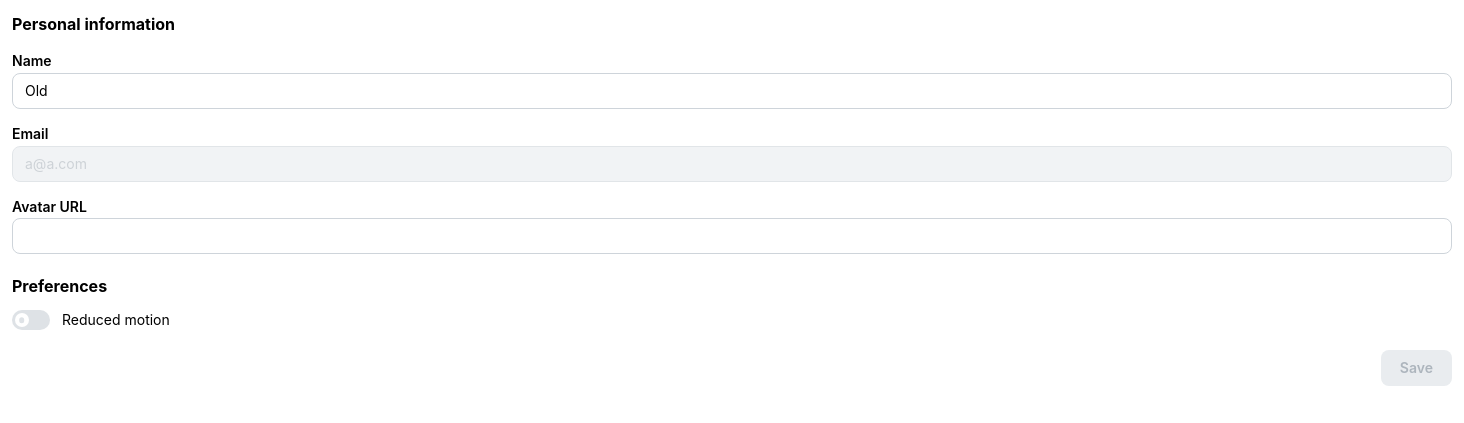
Test: ProfileRealSection (T1) › surfaces 422 validation errors
This screenshot has width=1464, height=423.
Replace the text in the field with test id "profile-real-name-input" with "X" at coordinates (732, 91), box [12,73,1452,109]
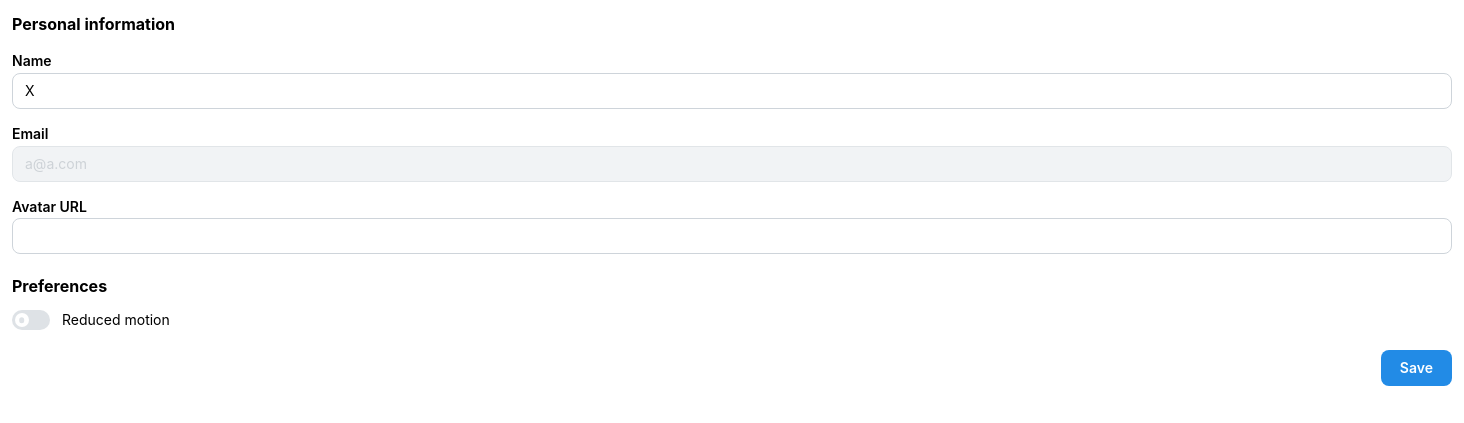
Click the button with test id "profile-real-save" at coordinates (1416, 368), box [1381,350,1452,386]
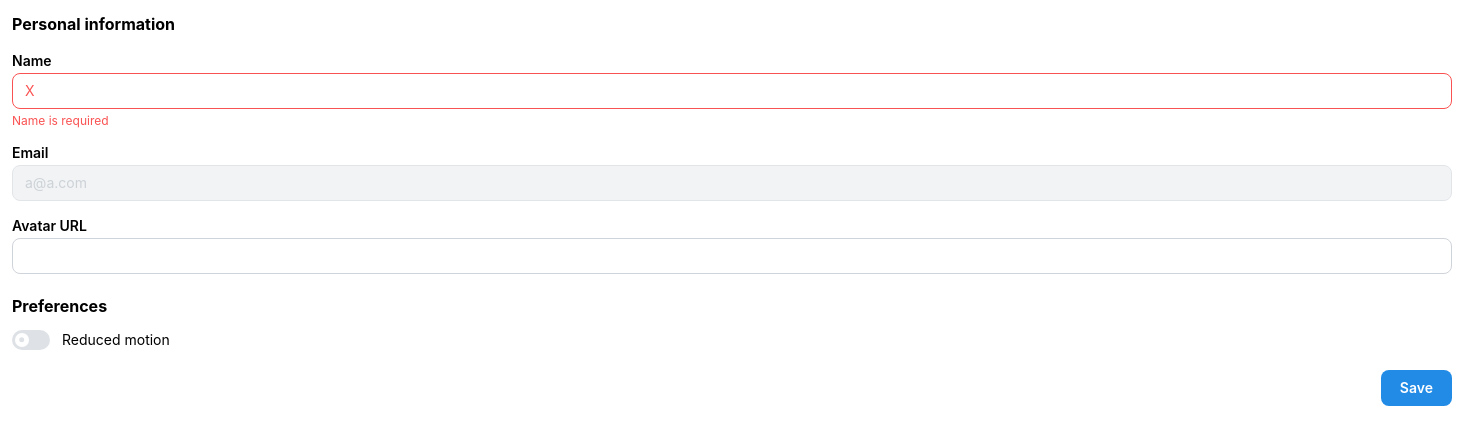
Expected: the text "Name is required" is shown, [12,113,109,128]
